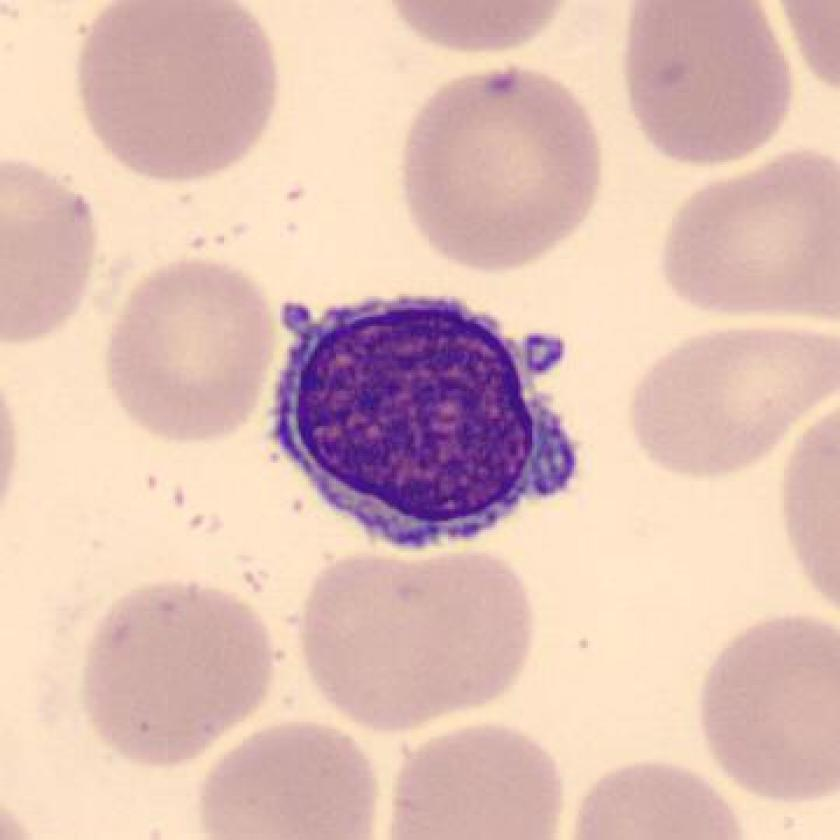lymphocyte: (258, 286, 594, 568)
